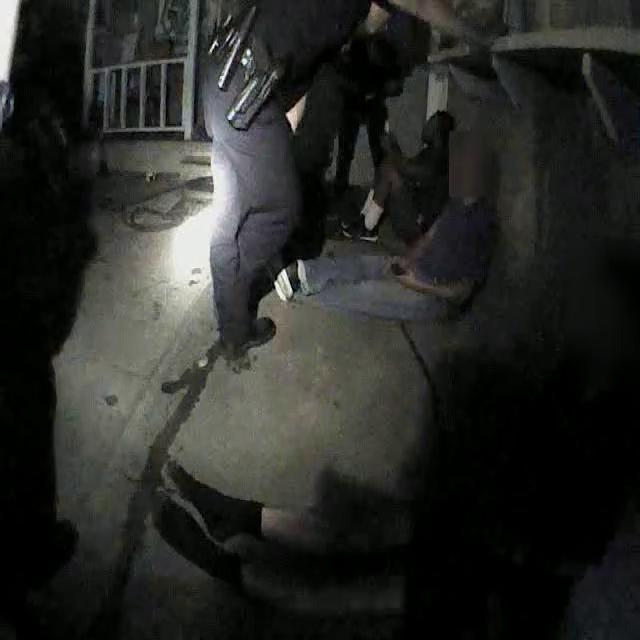gun: (222, 26, 292, 137)
